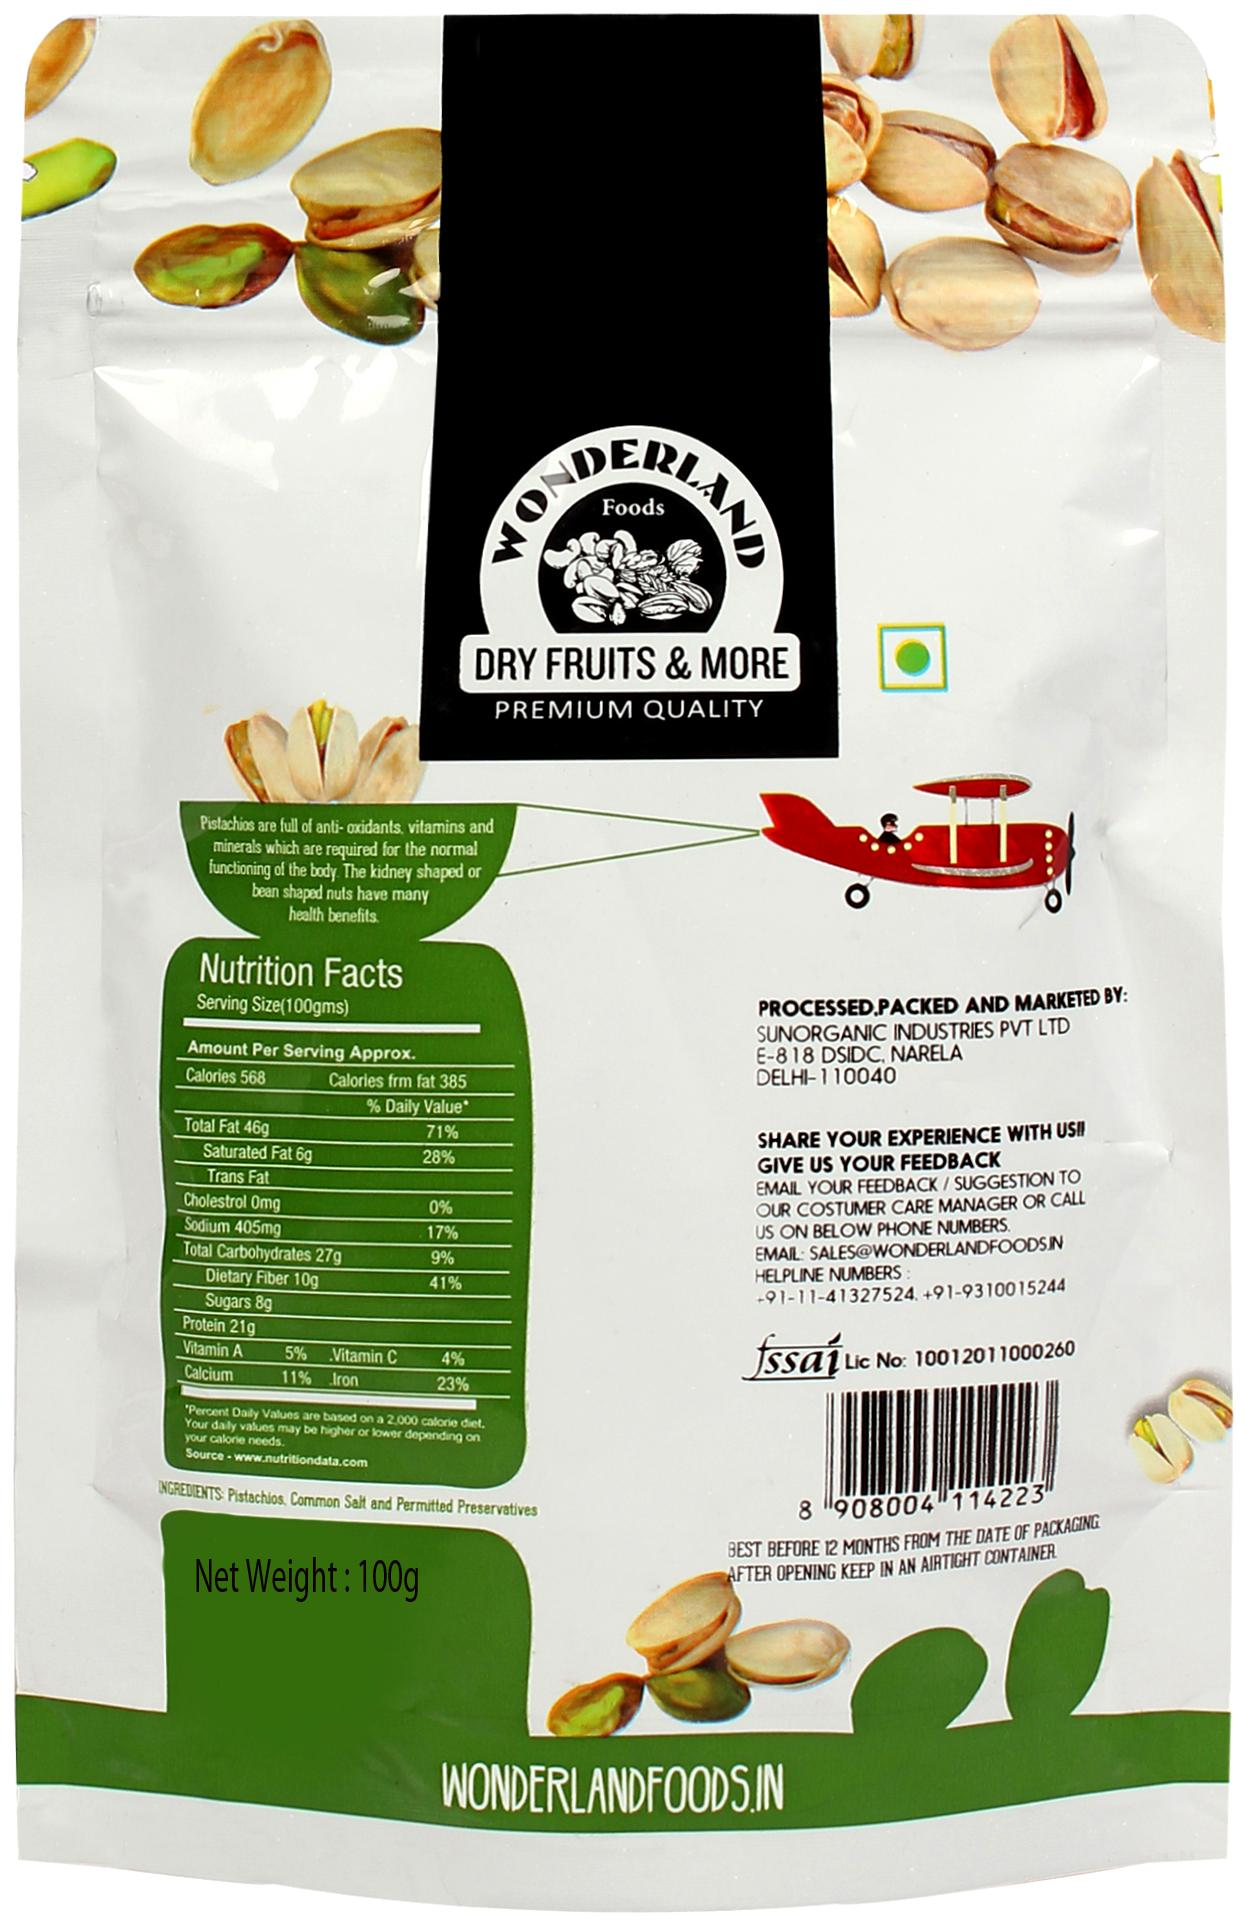fssai: (742, 1331, 843, 1381)
